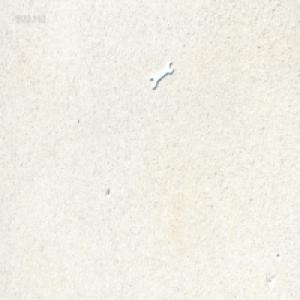Wrench: (149, 59, 173, 90)
